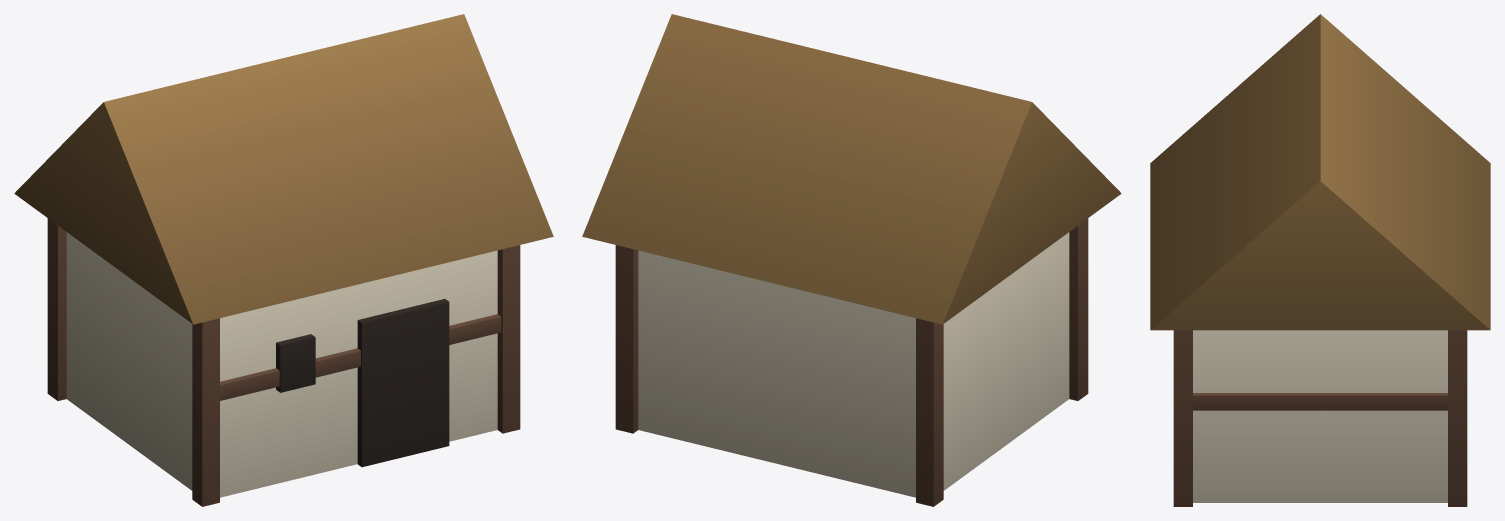
File: house_NE_2b.glb
The picture shows the model from 3 angles, left to right: view 1: azimuth 30°, elevation 25°; view 2: azimuth 150°, elevation 25°; view 3: azimuth 270°, elevation 25°; orthographic projection. The views are drawn at different scales.
Parts seen in each view (by area): view 1: Body; view 2: Body; view 3: Body.
Part boxes in pixels (x1=…): Body: x1=14, y1=14, x2=553, y2=506; Body: x1=582, y1=14, x2=1121, y2=506; Body: x1=1150, y1=14, x2=1490, y2=506.
Bounding box in the file's own units: 1.44 × 1.35 × 1.24.
1 material, 1 textured.
